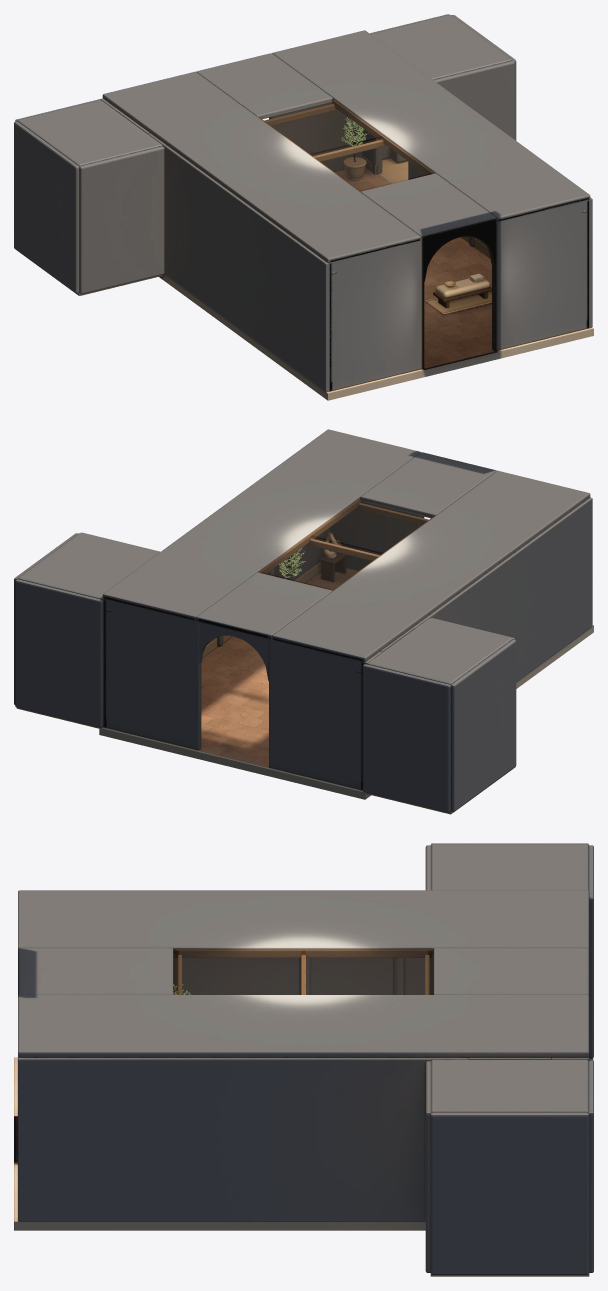
Rendered from extension-clean.glb.
3 views of the same model, one above another, from view 1: azimuth 30°, elevation 25°; view 2: azimuth 150°, elevation 25°; view 3: azimuth 270°, elevation 25° (orthographic). The views are drawn at different scales.
Visible parts, largest first — view 1: LIGHTMAP extension plaster, BAKED extension floor, BAKED extension furniture; view 2: LIGHTMAP extension plaster, BAKED extension floor, BAKED extension furniture; view 3: LIGHTMAP extension plaster, BAKED extension floor, BAKED extension furniture.
Part boxes in pixels (<box>): LIGHTMAP extension plaster: <box>14,14,592,392</box>; BAKED extension floor: <box>76,155,593,400</box>; BAKED extension furniture: <box>259,99,491,314</box>; LIGHTMAP extension plaster: <box>14,429,592,812</box>; BAKED extension floor: <box>16,561,593,814</box>; BAKED extension furniture: <box>258,498,433,590</box>; LIGHTMAP extension plaster: <box>18,843,593,1274</box>; BAKED extension floor: <box>14,1057,593,1276</box>; BAKED extension furniture: <box>173,949,431,994</box>.
Bounding box in the file's own units: 20.3 × 6.17 × 18.28.
Materials: 8 (3 with a texture image).
